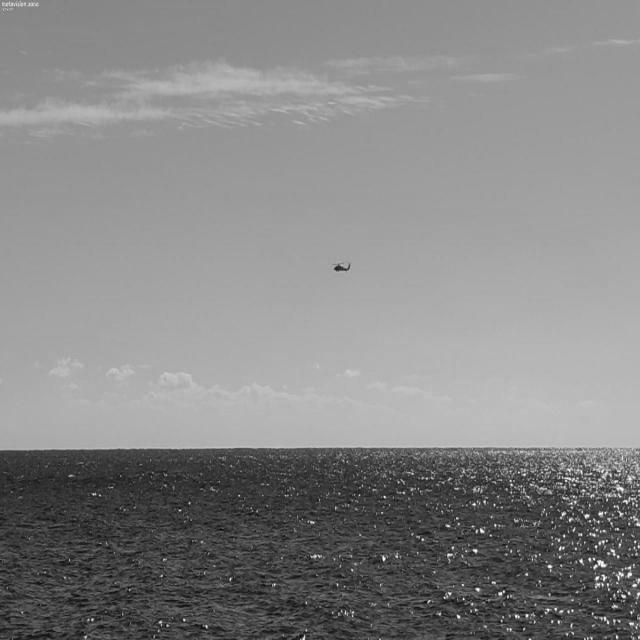helikopter: (319, 245, 374, 292)
